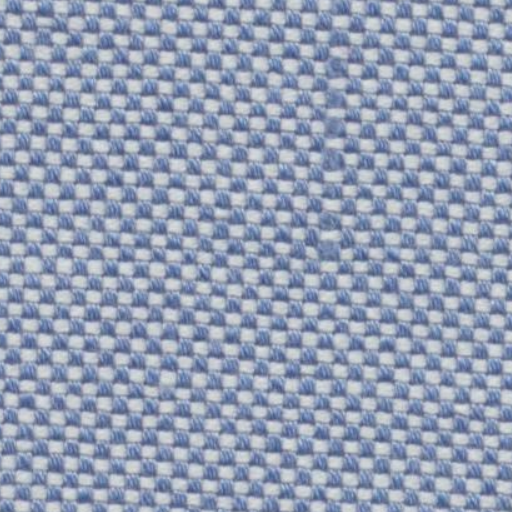TuoSha: (310, 14, 370, 271)
